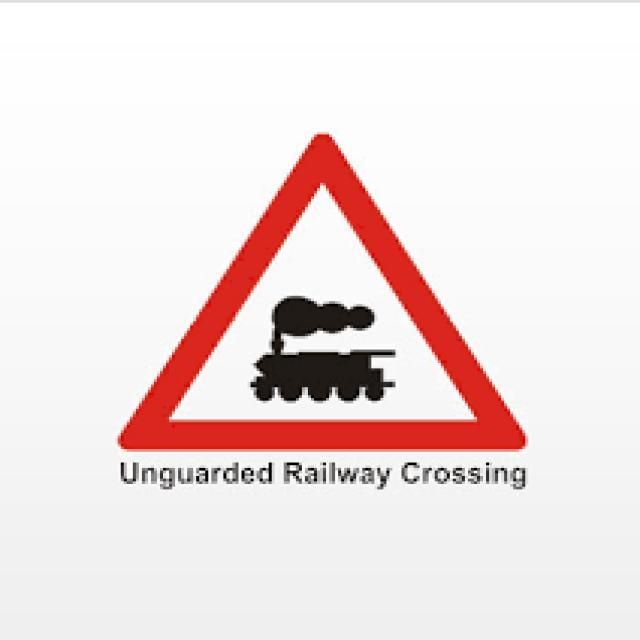unguarded level crossing: (116, 130, 528, 453)
